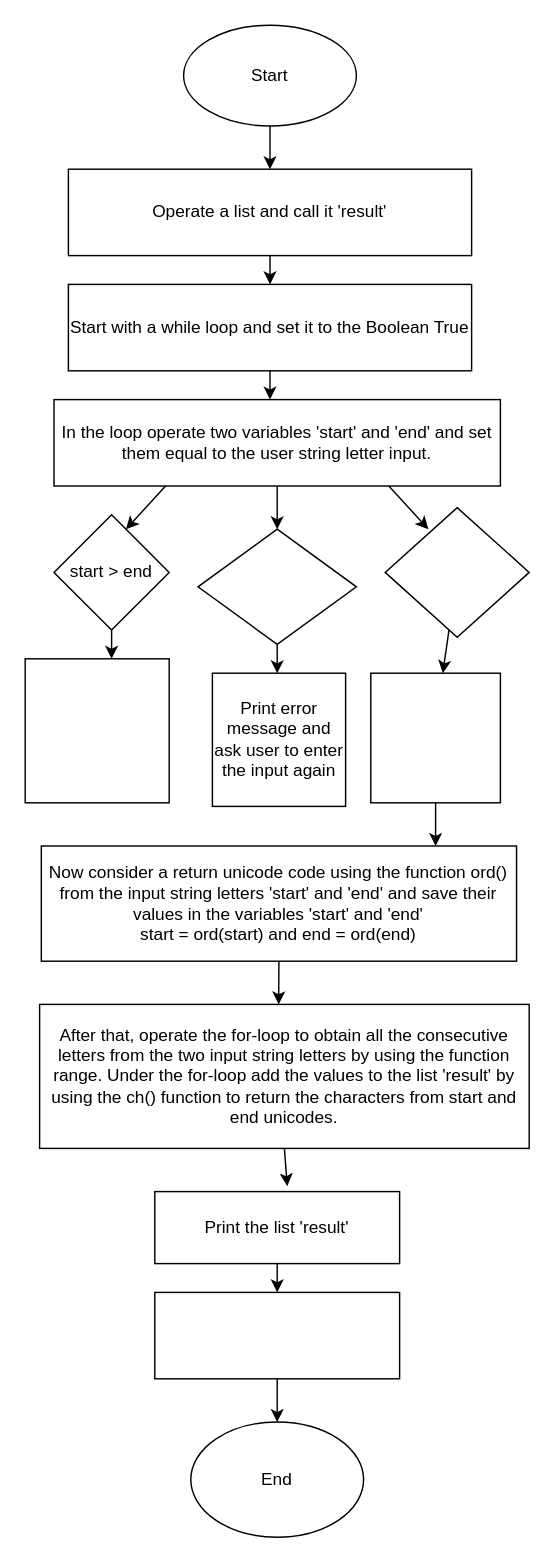
This 554x1562 diagram has some shape labels left out. The shapes that lost their labels are listed below. From the top down, each one's centre as x and y in pixels, then its label:
At pixel 276 586: "start isalpha()= False".
At pixel 456 571: "start and end string letter".
At pixel 96 730: "Print error message and ask the user to enter an input again".
At pixel 434 737: "Stop the loop".
At pixel 276 1335: "Return the list 'result'".
